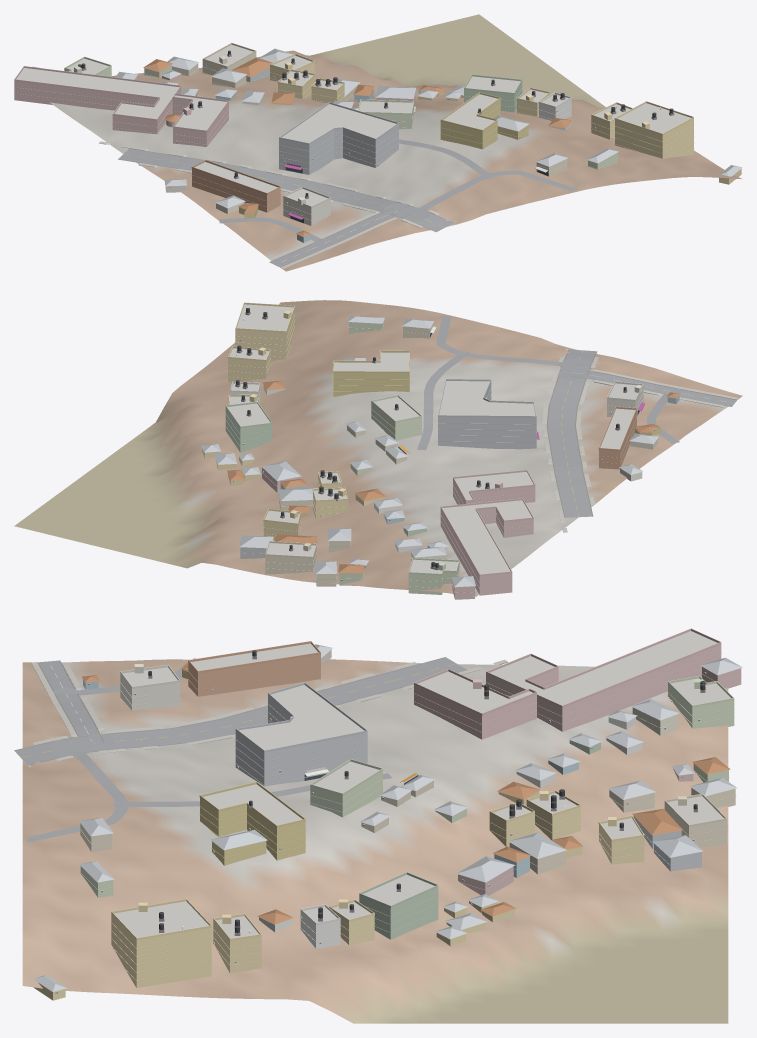
The picture shows the model from 3 angles, top to bottom: view 1: azimuth 30°, elevation 25°; view 2: azimuth 150°, elevation 25°; view 3: azimuth 270°, elevation 25°; orthographic projection. The views are drawn at different scales.
Visible parts, largest first — view 1: Terrain-col, Buildings-col, Details, Roads-col, Sidewalks-col; view 2: Terrain-col, Buildings-col, Details, Roads-col, Sidewalks-col; view 3: Terrain-col, Buildings-col, Details, Roads-col, Sidewalks-col.
Boxes of the visible parts, x1,y1,x2,y2 form: Terrain-col: (50,14,742,271); Buildings-col: (14,44,742,242); Details: (14,42,693,223); Roads-col: (118,139,578,267); Sidewalks-col: (99,141,456,268); Terrain-col: (14,300,742,596); Buildings-col: (201,304,680,599); Details: (220,302,655,593); Roads-col: (417,315,736,517); Sidewalks-col: (542,349,738,532); Terrain-col: (22,659,728,1023); Buildings-col: (33,631,742,1000); Details: (55,628,741,993); Roads-col: (14,657,467,842); Sidewalks-col: (28,659,507,767).
Bounding box in the file's own units: 275 × 43.51 × 264.
